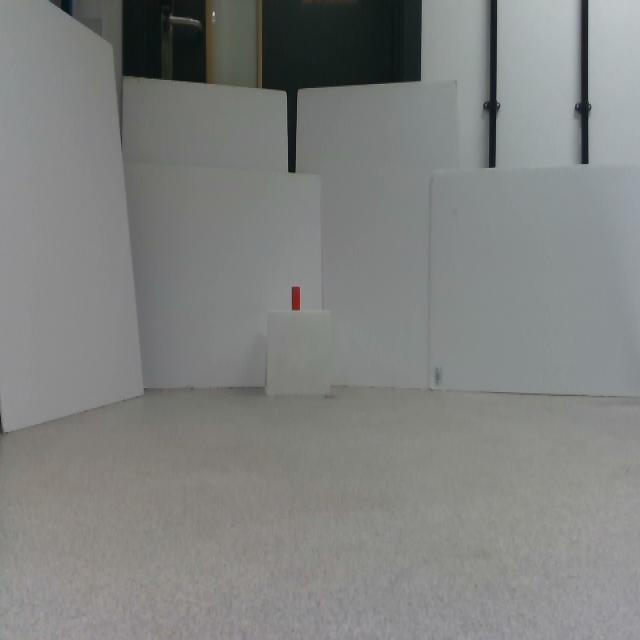red_cylinder: (292, 286, 300, 311)
